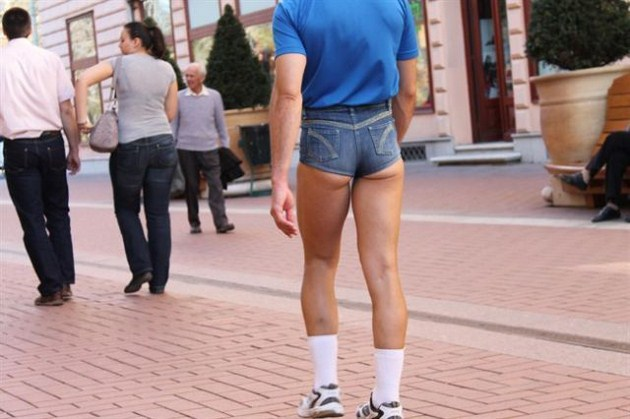Person: (270, 1, 419, 419), (75, 17, 179, 295), (1, 7, 78, 307), (181, 62, 234, 235)
